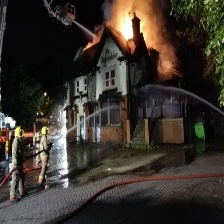fire: (114, 7, 157, 47)
